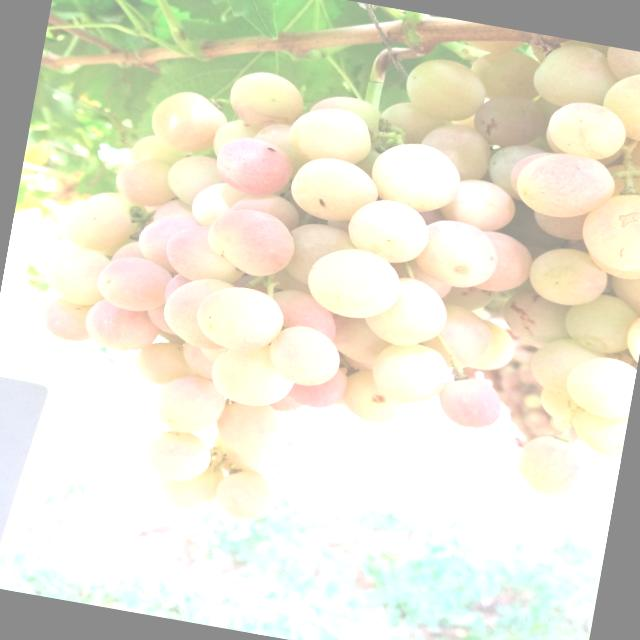grapes: (300, 241, 408, 327), (512, 146, 619, 226), (364, 136, 464, 216), (189, 280, 290, 356), (202, 201, 298, 280), (284, 153, 382, 230), (206, 335, 300, 412), (413, 216, 505, 294), (366, 272, 454, 352), (509, 430, 600, 506), (528, 37, 620, 112), (283, 99, 378, 170), (160, 221, 254, 290), (344, 195, 434, 267), (366, 337, 452, 408), (402, 54, 489, 124), (525, 242, 612, 311), (224, 67, 309, 137), (544, 96, 631, 164), (148, 86, 230, 158), (267, 318, 345, 392), (162, 276, 238, 350), (148, 369, 228, 438), (211, 132, 297, 196), (561, 288, 640, 356), (577, 185, 640, 270), (562, 349, 638, 419), (210, 396, 288, 462), (82, 294, 165, 356), (282, 220, 354, 291), (55, 193, 139, 253), (416, 118, 494, 181), (96, 254, 174, 316), (494, 286, 570, 349), (151, 451, 226, 514), (42, 241, 113, 307), (439, 173, 517, 233), (140, 425, 214, 488), (526, 334, 598, 398), (474, 90, 548, 152), (340, 365, 409, 429), (133, 202, 201, 266), (433, 372, 504, 432), (437, 300, 496, 370), (261, 288, 339, 340), (131, 336, 203, 392), (474, 232, 536, 296), (212, 466, 280, 524), (113, 154, 182, 210), (162, 152, 226, 212), (304, 90, 382, 138), (374, 97, 446, 148), (597, 68, 640, 148), (470, 48, 540, 96), (286, 360, 349, 413), (188, 176, 247, 232), (208, 432, 279, 478), (230, 188, 302, 232), (570, 404, 628, 458), (38, 292, 98, 344), (454, 20, 533, 58), (328, 317, 388, 365), (485, 144, 537, 194), (130, 130, 191, 167), (607, 251, 640, 315), (481, 322, 520, 376), (210, 116, 256, 160), (527, 209, 585, 241), (534, 386, 580, 424), (178, 342, 218, 379), (144, 300, 184, 336), (602, 45, 640, 82), (451, 285, 494, 309), (258, 120, 294, 148), (268, 390, 306, 416), (198, 342, 228, 363)
